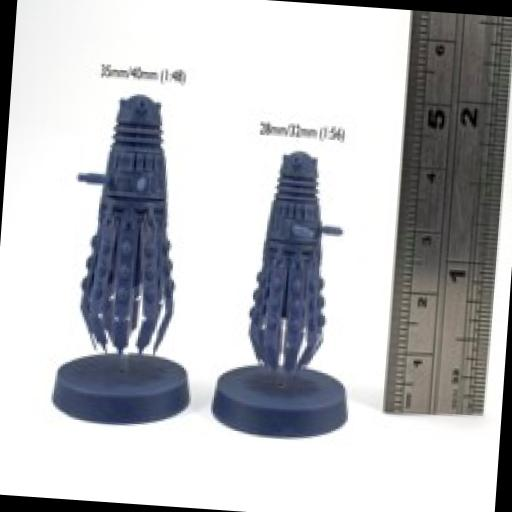dalek: (54, 90, 197, 362), (240, 148, 352, 371)
